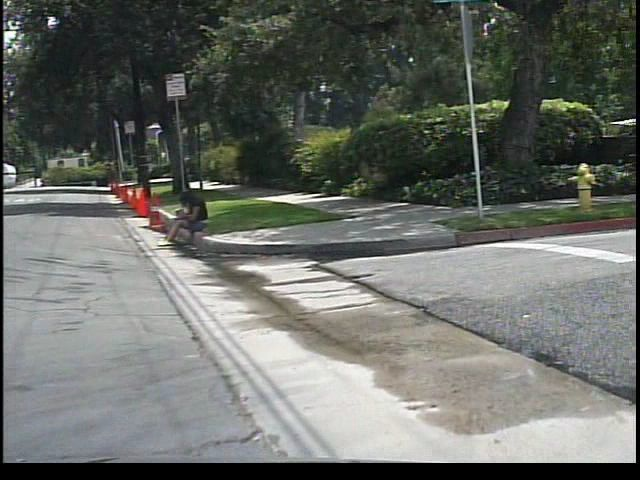person: (162, 189, 221, 248)
